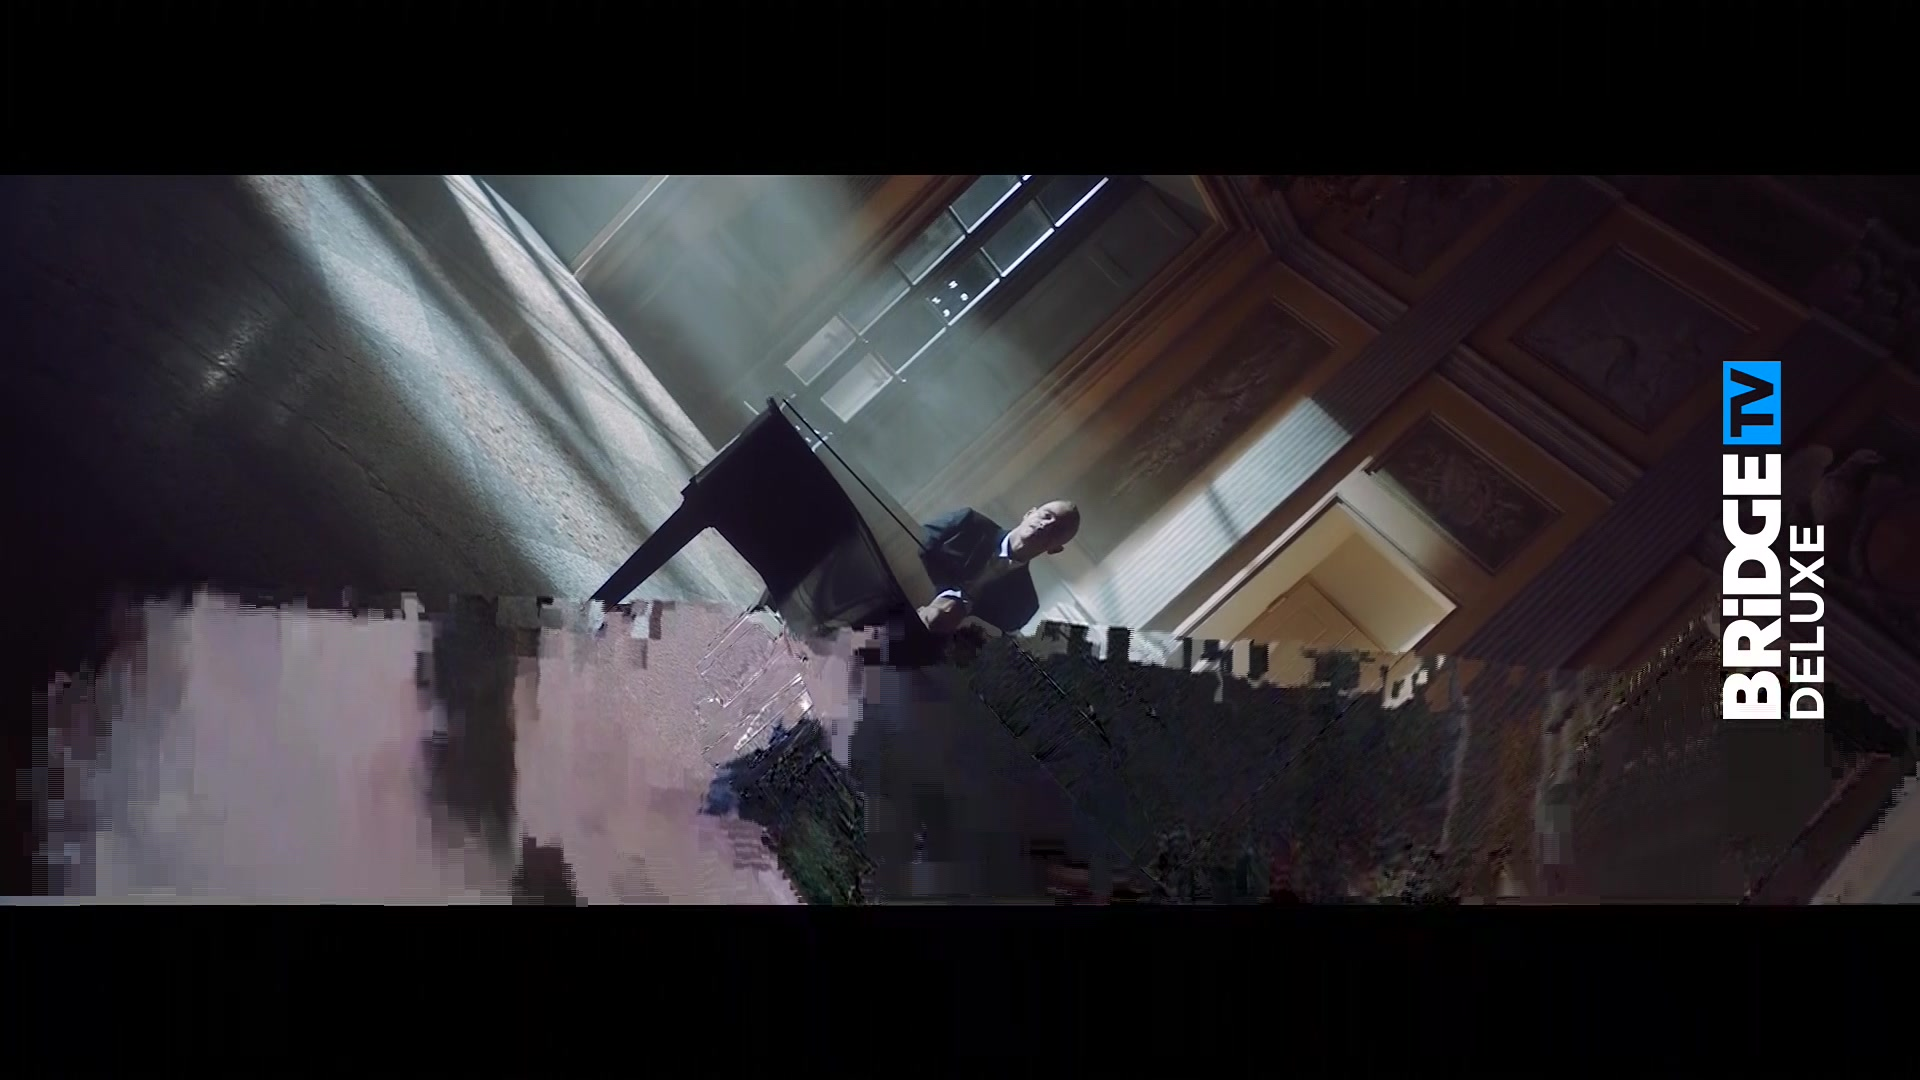Bridge_TV_Deluxe: (1712, 351, 1836, 728)
